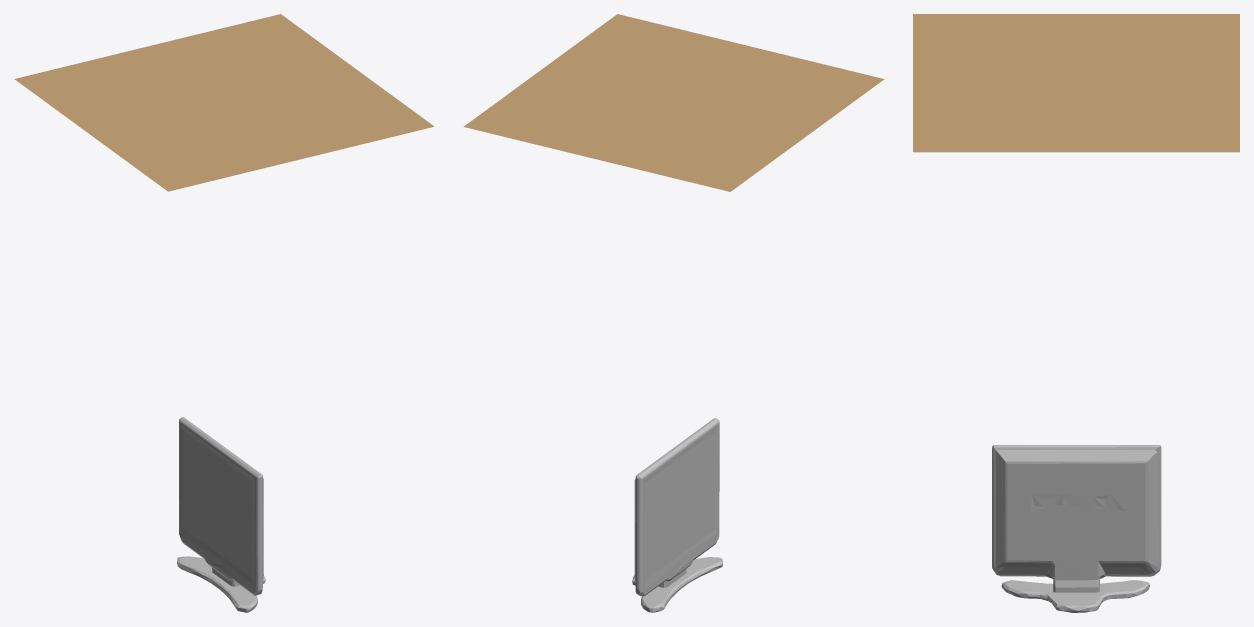
Rendered from init.glb.
3 renders of one model, left to right at view 1: azimuth 30°, elevation 25°; view 2: azimuth 150°, elevation 25°; view 3: azimuth 270°, elevation 25°, orthographic. The views are drawn at different scales.
Visible parts, largest first — view 1: world, object.obj; view 2: world, object.obj; view 3: world, object.obj.
Boxes of the visible parts, <box> form: world: <box>14,14,434,191</box>; object.obj: <box>177,417,265,612</box>; world: <box>463,14,884,191</box>; object.obj: <box>632,418,723,612</box>; world: <box>913,14,1239,152</box>; object.obj: <box>992,445,1161,612</box>.
Bounding box in the file's own units: 0.5786 × 0.9995 × 0.5786.
